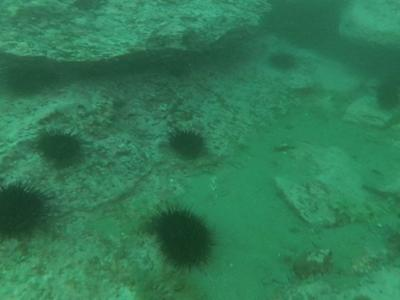urchin: (149, 202, 215, 271), (4, 180, 60, 244), (38, 127, 84, 166), (1, 67, 56, 99), (168, 127, 208, 159), (271, 50, 300, 71)
